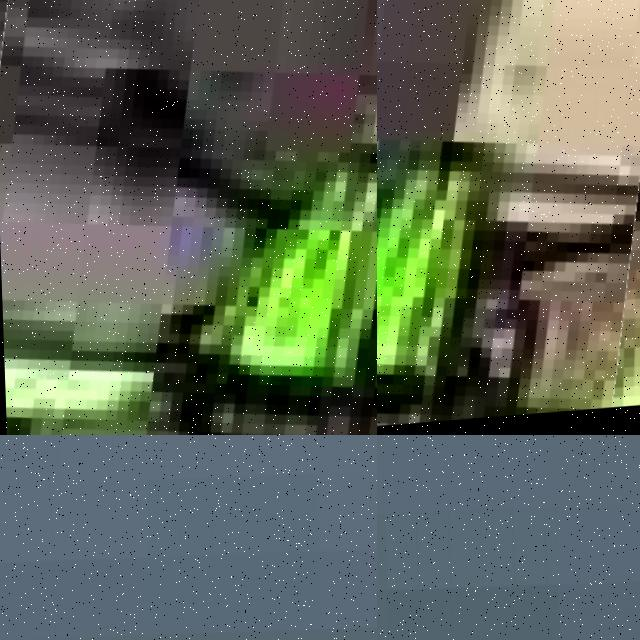drone: (0, 0, 377, 435), (377, 0, 640, 435)
